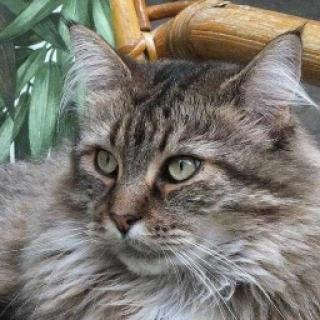cat: (64, 20, 309, 277)
nose: (99, 190, 149, 239)
